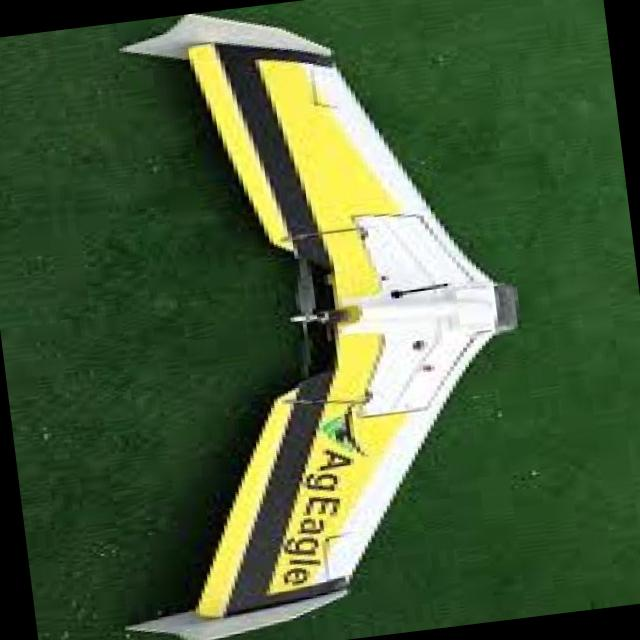UAV: (96, 24, 546, 619)
